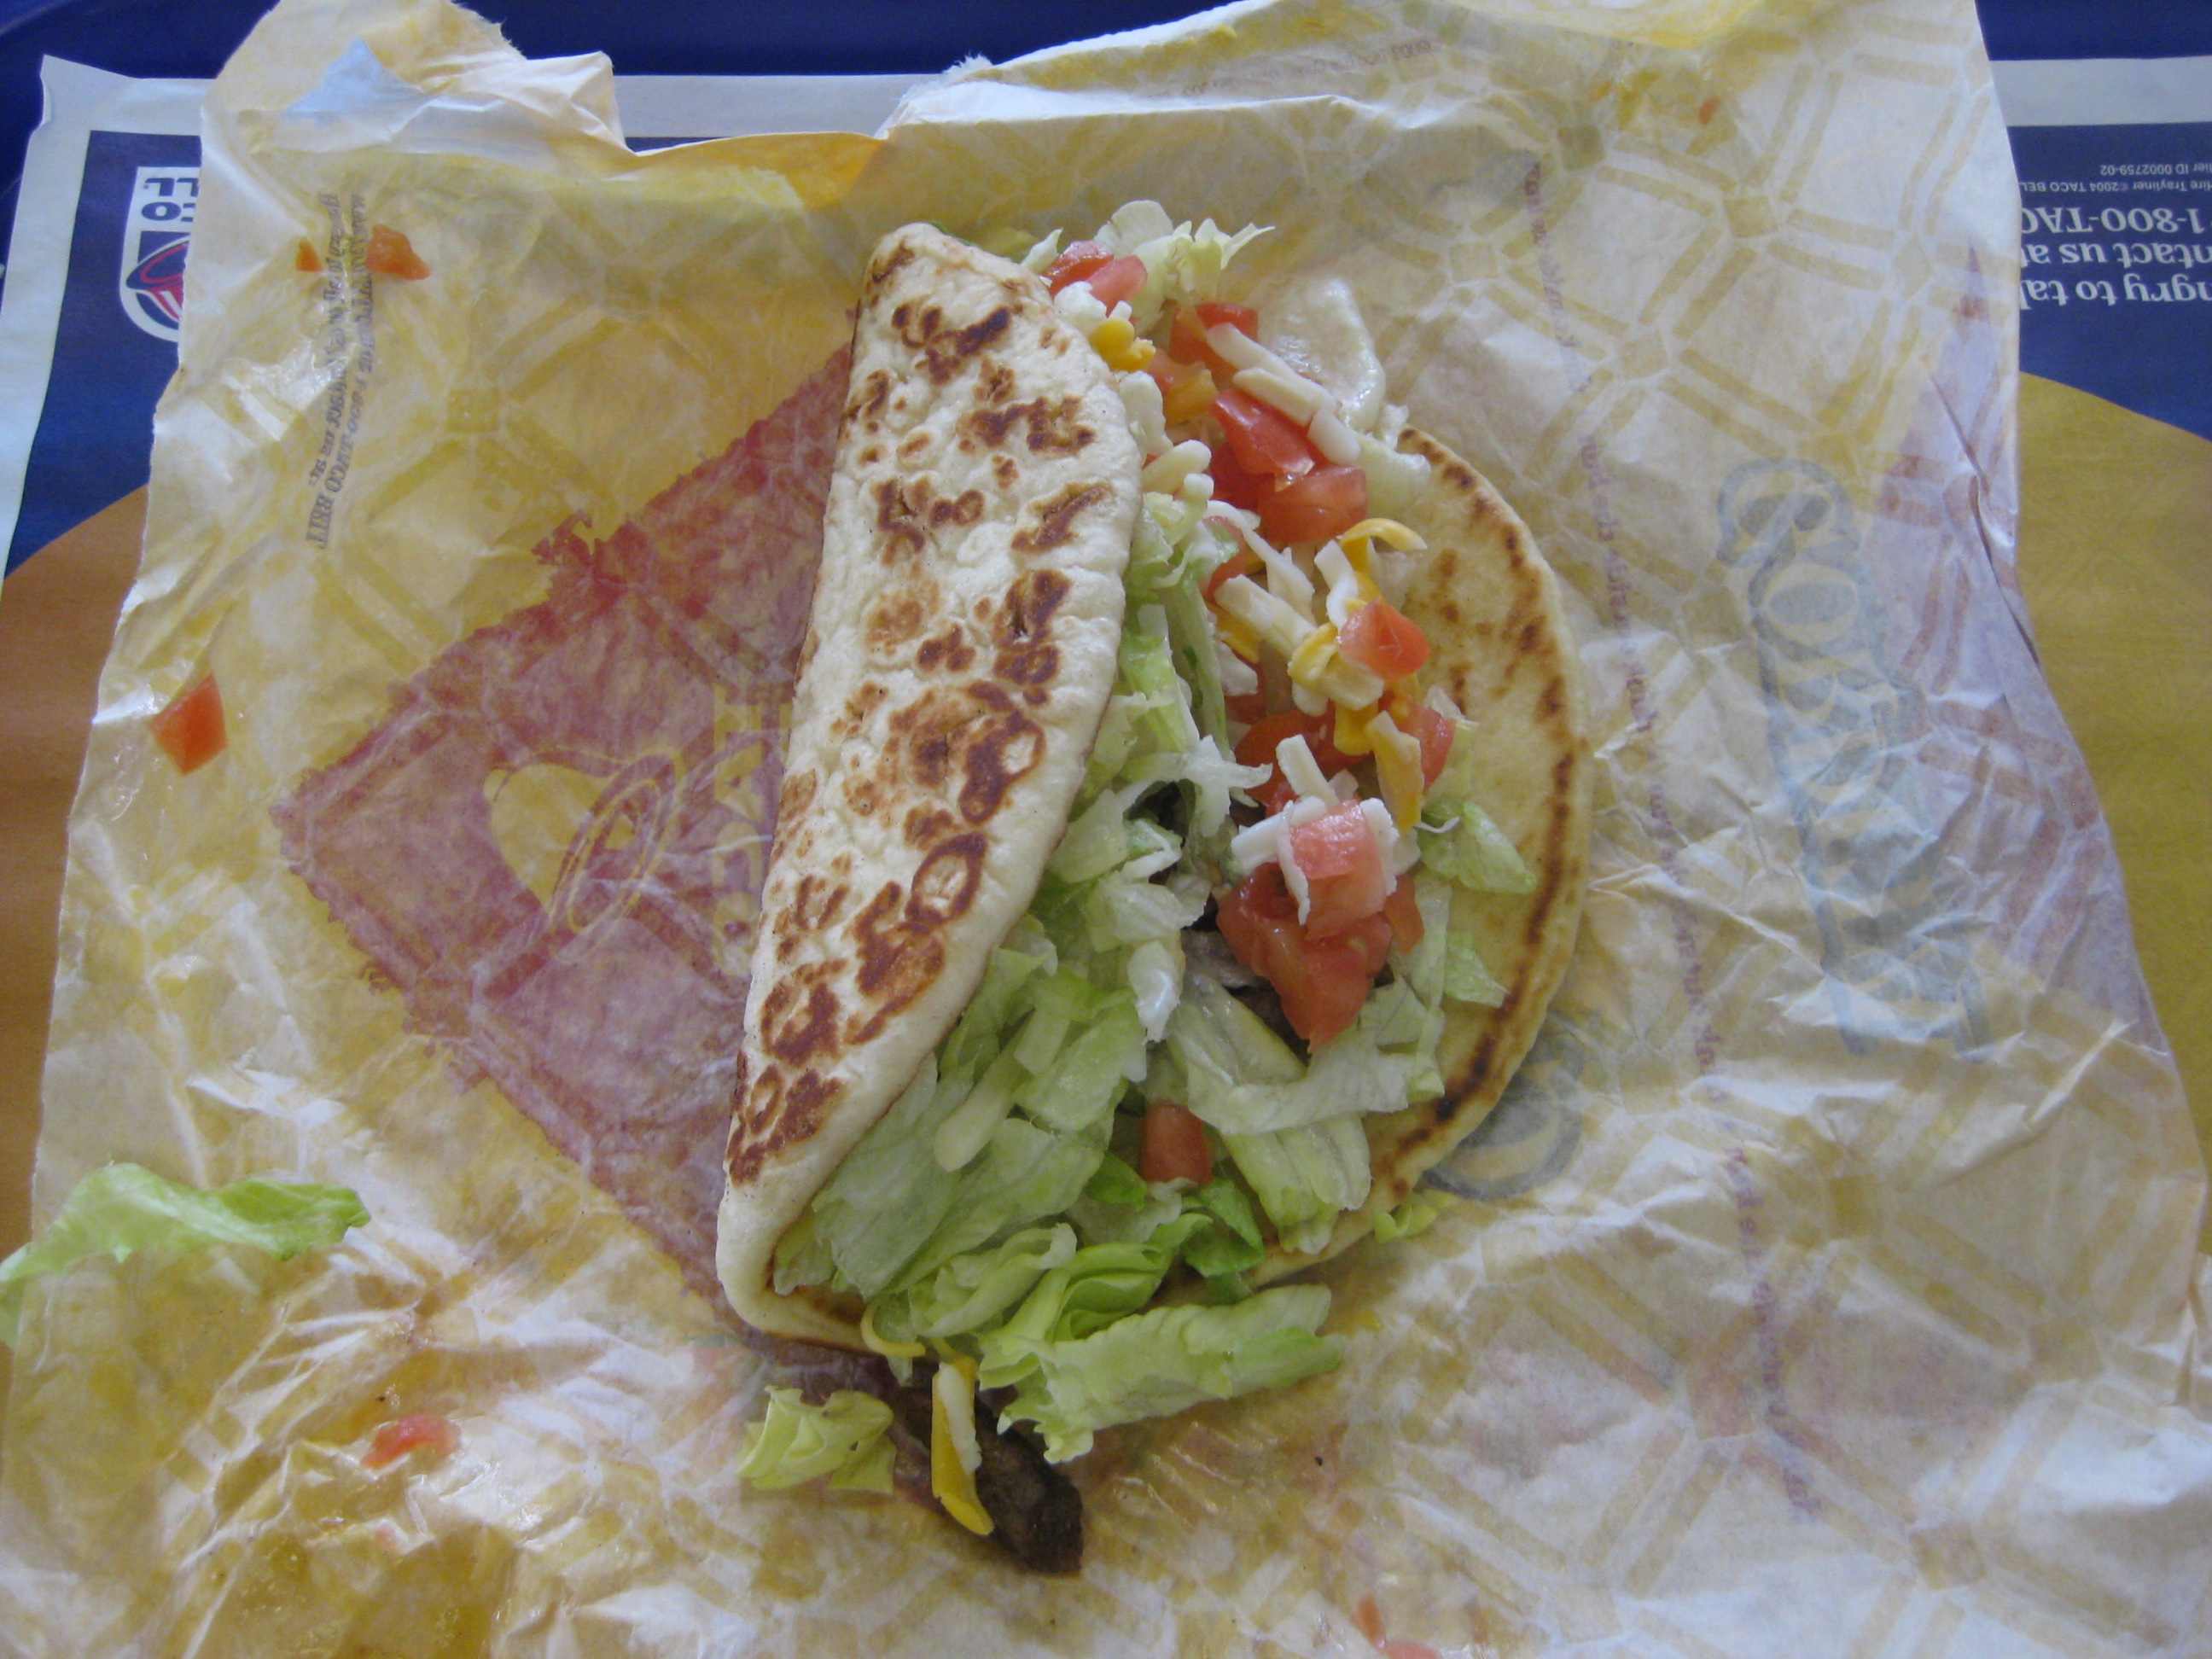taco: (667, 117, 1670, 1505)
